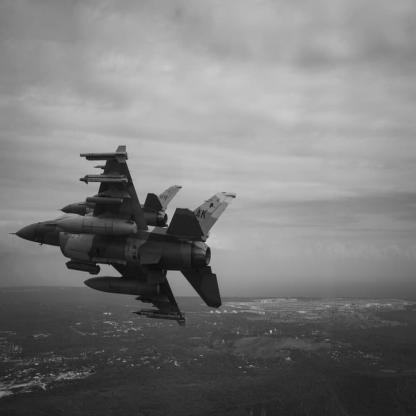F16: (9, 146, 238, 328), (58, 166, 184, 229)
